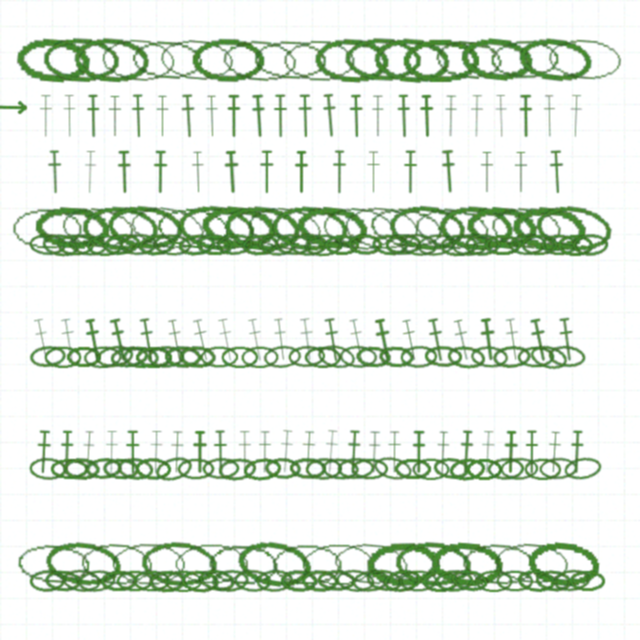chain: (126, 200, 208, 256), (244, 201, 326, 255), (533, 201, 615, 255), (234, 536, 314, 591), (365, 201, 446, 255), (176, 201, 256, 254), (222, 202, 303, 254), (411, 202, 492, 254), (43, 538, 124, 590), (58, 202, 138, 254), (387, 202, 468, 253), (516, 34, 595, 86), (319, 202, 398, 254), (341, 202, 421, 253), (105, 202, 184, 253), (153, 202, 232, 253), (487, 202, 566, 253), (294, 202, 371, 254), (157, 35, 237, 85), (219, 35, 299, 85), (372, 35, 452, 85), (270, 203, 350, 253), (458, 34, 536, 85), (199, 202, 277, 253), (525, 538, 603, 589), (331, 539, 410, 589), (545, 35, 625, 84), (492, 539, 572, 588), (99, 35, 178, 84), (140, 539, 219, 588), (394, 539, 473, 588), (459, 539, 538, 588), (510, 203, 587, 253), (72, 35, 150, 84), (78, 539, 156, 588), (431, 35, 507, 85), (464, 203, 540, 253), (81, 204, 160, 252), (14, 35, 91, 84), (437, 203, 514, 252), (429, 539, 506, 588), (313, 36, 391, 84), (14, 540, 92, 588), (42, 36, 121, 83), (128, 36, 205, 84), (33, 204, 110, 252), (344, 36, 421, 83), (251, 37, 328, 83), (281, 37, 358, 83), (205, 541, 280, 587), (110, 541, 186, 586), (402, 38, 479, 82), (300, 542, 377, 586), (191, 37, 266, 82), (365, 541, 440, 586), (173, 542, 249, 586), (488, 37, 562, 82), (10, 206, 85, 250), (270, 542, 345, 586), (153, 453, 195, 484), (528, 342, 569, 372), (316, 342, 357, 371), (372, 454, 413, 483), (95, 343, 135, 370), (563, 455, 603, 482), (197, 567, 237, 594), (382, 567, 422, 594), (449, 567, 489, 594), (102, 231, 141, 258), (365, 567, 404, 594), (41, 232, 81, 258), (68, 232, 108, 258), (416, 232, 456, 258), (109, 344, 149, 370), (446, 344, 486, 370), (217, 456, 257, 482), (242, 456, 282, 482), (77, 568, 117, 594), (351, 568, 391, 594), (137, 232, 176, 258), (177, 232, 216, 258), (448, 456, 487, 482), (534, 568, 573, 594), (547, 344, 587, 369), (335, 568, 375, 593), (516, 568, 556, 593), (399, 232, 438, 257), (451, 232, 490, 257), (263, 344, 302, 369), (492, 344, 531, 369), (116, 456, 155, 481), (432, 456, 471, 481), (62, 568, 101, 593), (552, 568, 591, 593), (216, 232, 254, 257), (29, 344, 67, 369), (85, 456, 123, 481), (211, 568, 249, 593), (153, 233, 192, 257), (304, 233, 343, 257), (439, 233, 478, 257), (83, 345, 122, 369), (470, 345, 509, 369), (180, 569, 219, 593), (241, 233, 279, 257), (371, 233, 409, 257), (122, 345, 160, 369), (102, 457, 140, 481), (321, 457, 359, 481), (44, 569, 82, 593), (148, 569, 186, 593), (339, 345, 378, 368), (355, 345, 392, 369), (378, 345, 415, 369), (147, 345, 185, 368), (178, 345, 216, 368), (424, 345, 462, 368), (62, 457, 100, 480), (202, 457, 240, 480), (264, 457, 302, 480), (337, 457, 375, 480), (500, 457, 538, 480), (539, 457, 577, 480), (317, 569, 355, 592), (435, 569, 473, 592), (29, 233, 66, 256), (120, 233, 157, 256), (258, 233, 295, 256), (274, 233, 311, 256), (290, 233, 327, 256), (385, 233, 422, 256), (464, 233, 501, 256), (509, 233, 546, 256), (572, 233, 609, 256), (164, 345, 201, 368), (288, 345, 325, 368), (400, 345, 437, 368), (29, 457, 66, 480), (135, 457, 172, 480), (289, 457, 326, 480), (305, 457, 342, 480), (487, 457, 524, 480), (29, 569, 66, 592), (234, 569, 271, 592), (256, 569, 293, 592), (280, 569, 317, 592), (301, 569, 338, 592), (44, 346, 82, 368), (200, 346, 238, 368), (241, 346, 279, 368), (517, 346, 555, 368), (50, 458, 88, 480), (177, 458, 215, 480), (412, 458, 450, 480), (164, 570, 202, 592), (399, 570, 437, 592), (475, 570, 513, 592), (347, 233, 383, 256), (57, 234, 94, 256), (86, 234, 123, 256), (196, 234, 233, 256), (484, 234, 521, 256), (521, 234, 558, 256), (541, 234, 578, 256), (557, 234, 594, 256), (135, 346, 172, 368), (221, 346, 258, 368), (304, 346, 341, 368), (351, 458, 388, 480), (394, 458, 431, 480), (466, 458, 503, 480), (524, 458, 561, 480), (100, 570, 137, 592), (116, 570, 153, 592), (133, 570, 170, 592), (422, 570, 459, 592), (496, 570, 533, 592), (569, 570, 606, 592), (324, 234, 360, 256), (66, 346, 102, 368)
half_double: (106, 317, 132, 363), (189, 317, 215, 363), (449, 317, 475, 363), (30, 317, 55, 363), (214, 317, 239, 363), (345, 317, 370, 363), (371, 317, 396, 363), (527, 317, 552, 363), (164, 317, 188, 363), (244, 317, 268, 363), (398, 317, 422, 363), (425, 317, 449, 363), (57, 317, 80, 363), (82, 317, 105, 363), (136, 317, 159, 363), (321, 317, 344, 363), (296, 317, 318, 362), (477, 317, 499, 362), (502, 317, 524, 362), (556, 317, 578, 362), (270, 317, 291, 362), (320, 93, 340, 138), (276, 429, 296, 474), (321, 429, 341, 474), (439, 149, 458, 194), (179, 94, 198, 138), (249, 94, 268, 138), (222, 150, 241, 194), (547, 150, 566, 194), (34, 430, 53, 474), (299, 430, 318, 474), (344, 430, 363, 474), (457, 430, 476, 474), (478, 430, 497, 474), (129, 94, 147, 138), (203, 94, 221, 138), (296, 94, 314, 138), (347, 94, 365, 138), (395, 94, 413, 138), (492, 94, 510, 138), (567, 94, 585, 138), (46, 150, 64, 194), (81, 150, 99, 194), (115, 150, 133, 194), (189, 150, 207, 194), (58, 430, 76, 474), (79, 430, 97, 474), (147, 430, 165, 474), (168, 430, 186, 474), (365, 430, 383, 474), (434, 430, 452, 474), (502, 430, 520, 474), (545, 430, 563, 474), (568, 430, 586, 474), (37, 94, 54, 138), (61, 94, 78, 138), (106, 94, 123, 138), (154, 94, 171, 138), (225, 94, 242, 138), (272, 94, 289, 138), (369, 94, 386, 138), (418, 94, 435, 138), (442, 94, 459, 138), (468, 94, 485, 138), (517, 94, 534, 138), (541, 94, 558, 138), (152, 150, 169, 194), (258, 150, 275, 194), (293, 150, 310, 194), (331, 150, 348, 194), (365, 150, 382, 194), (402, 150, 419, 194), (478, 150, 495, 194), (512, 150, 529, 194), (103, 430, 120, 474), (124, 430, 141, 474), (191, 430, 208, 474), (212, 430, 229, 474), (236, 430, 253, 474), (256, 430, 273, 474), (386, 430, 403, 474), (410, 430, 427, 474), (523, 430, 540, 474), (85, 94, 101, 138)
noise: (0, 100, 29, 114)
